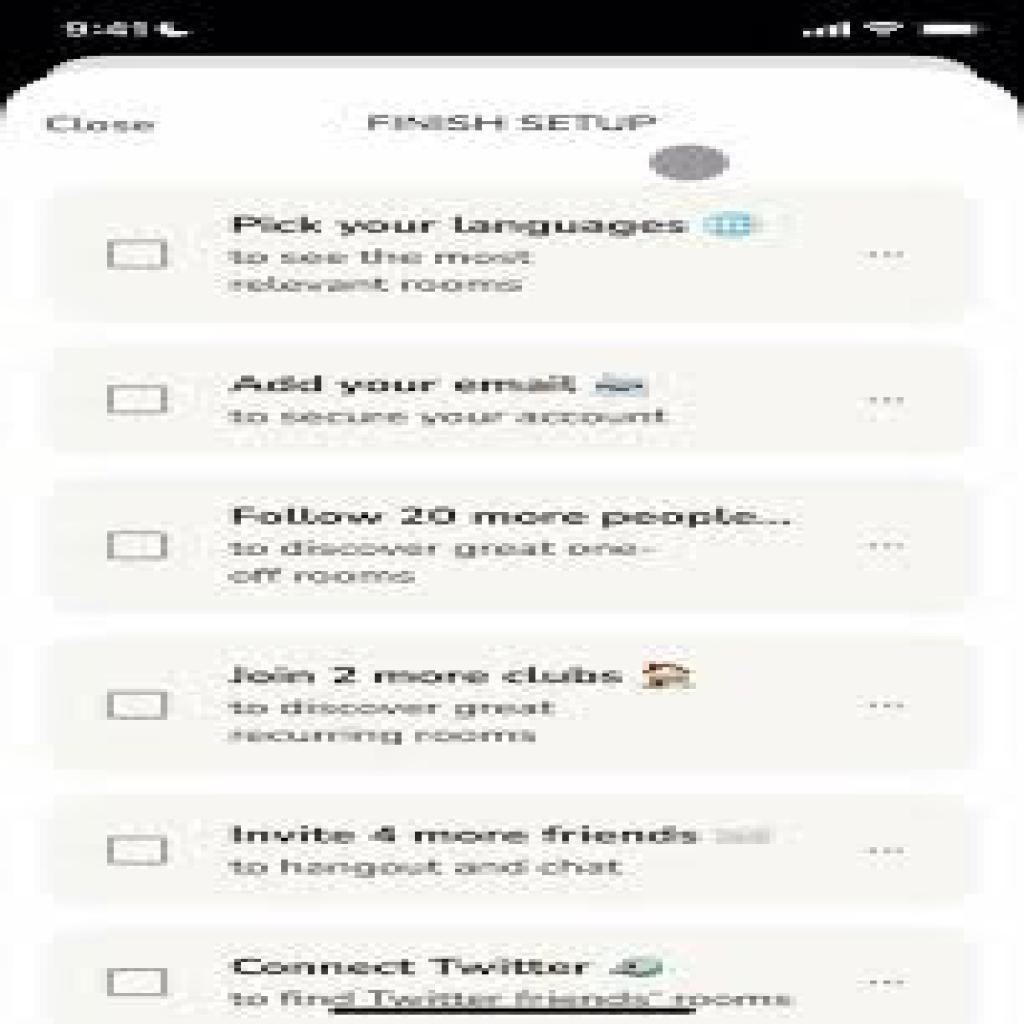checkbox: (109, 690, 166, 722), (110, 968, 168, 998), (109, 837, 168, 866), (111, 388, 168, 416), (110, 245, 165, 270), (111, 535, 166, 558)
icon: (865, 241, 908, 276), (867, 530, 909, 564), (864, 387, 909, 415), (863, 839, 909, 866), (867, 695, 905, 723), (869, 973, 906, 998)
label: (224, 499, 797, 597), (220, 211, 761, 313), (226, 651, 708, 757), (230, 822, 784, 891), (226, 950, 808, 1013), (215, 366, 673, 440)
